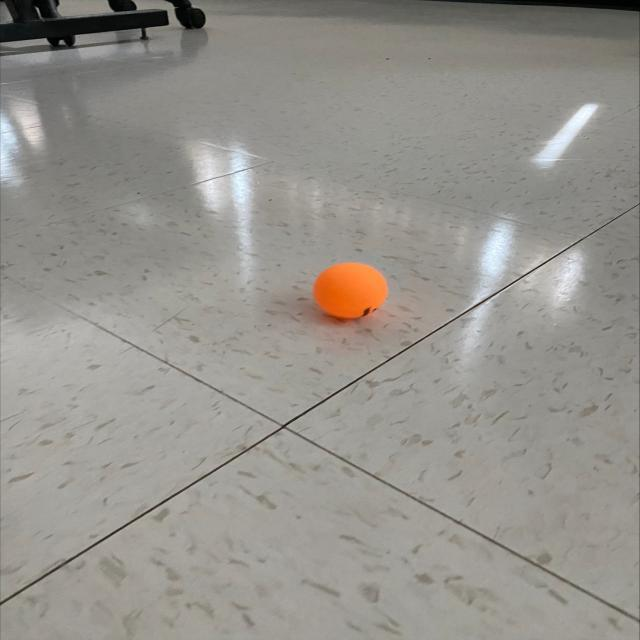ping-pong-ball: (308, 259, 392, 322)
